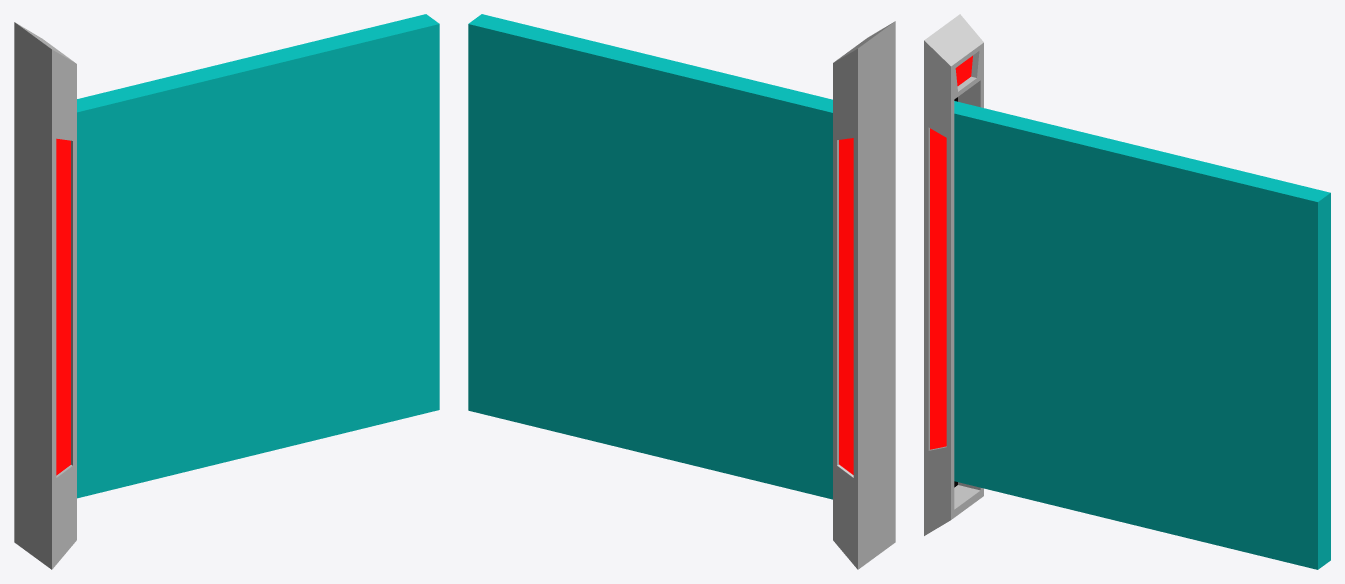
Rendered from doorandframe.fbx.
3 views of the same model, side by side, from view 1: azimuth 30°, elevation 25°; view 2: azimuth 150°, elevation 25°; view 3: azimuth 330°, elevation 25° (orthographic). The views are drawn at different scales.
Visible parts, largest first — view 1: Cube, Door Frame; view 2: Cube, Door Frame; view 3: Cube, Door Frame.
Part boxes in pixels (x1,y1,x2,y2): Cube: [77, 14, 439, 498]; Door Frame: [14, 22, 76, 569]; Cube: [468, 14, 832, 499]; Door Frame: [833, 21, 895, 569]; Cube: [954, 101, 1330, 569]; Door Frame: [924, 14, 983, 535].
Size of the model in its own units: 6.52 by 8.1 by 1.07.
